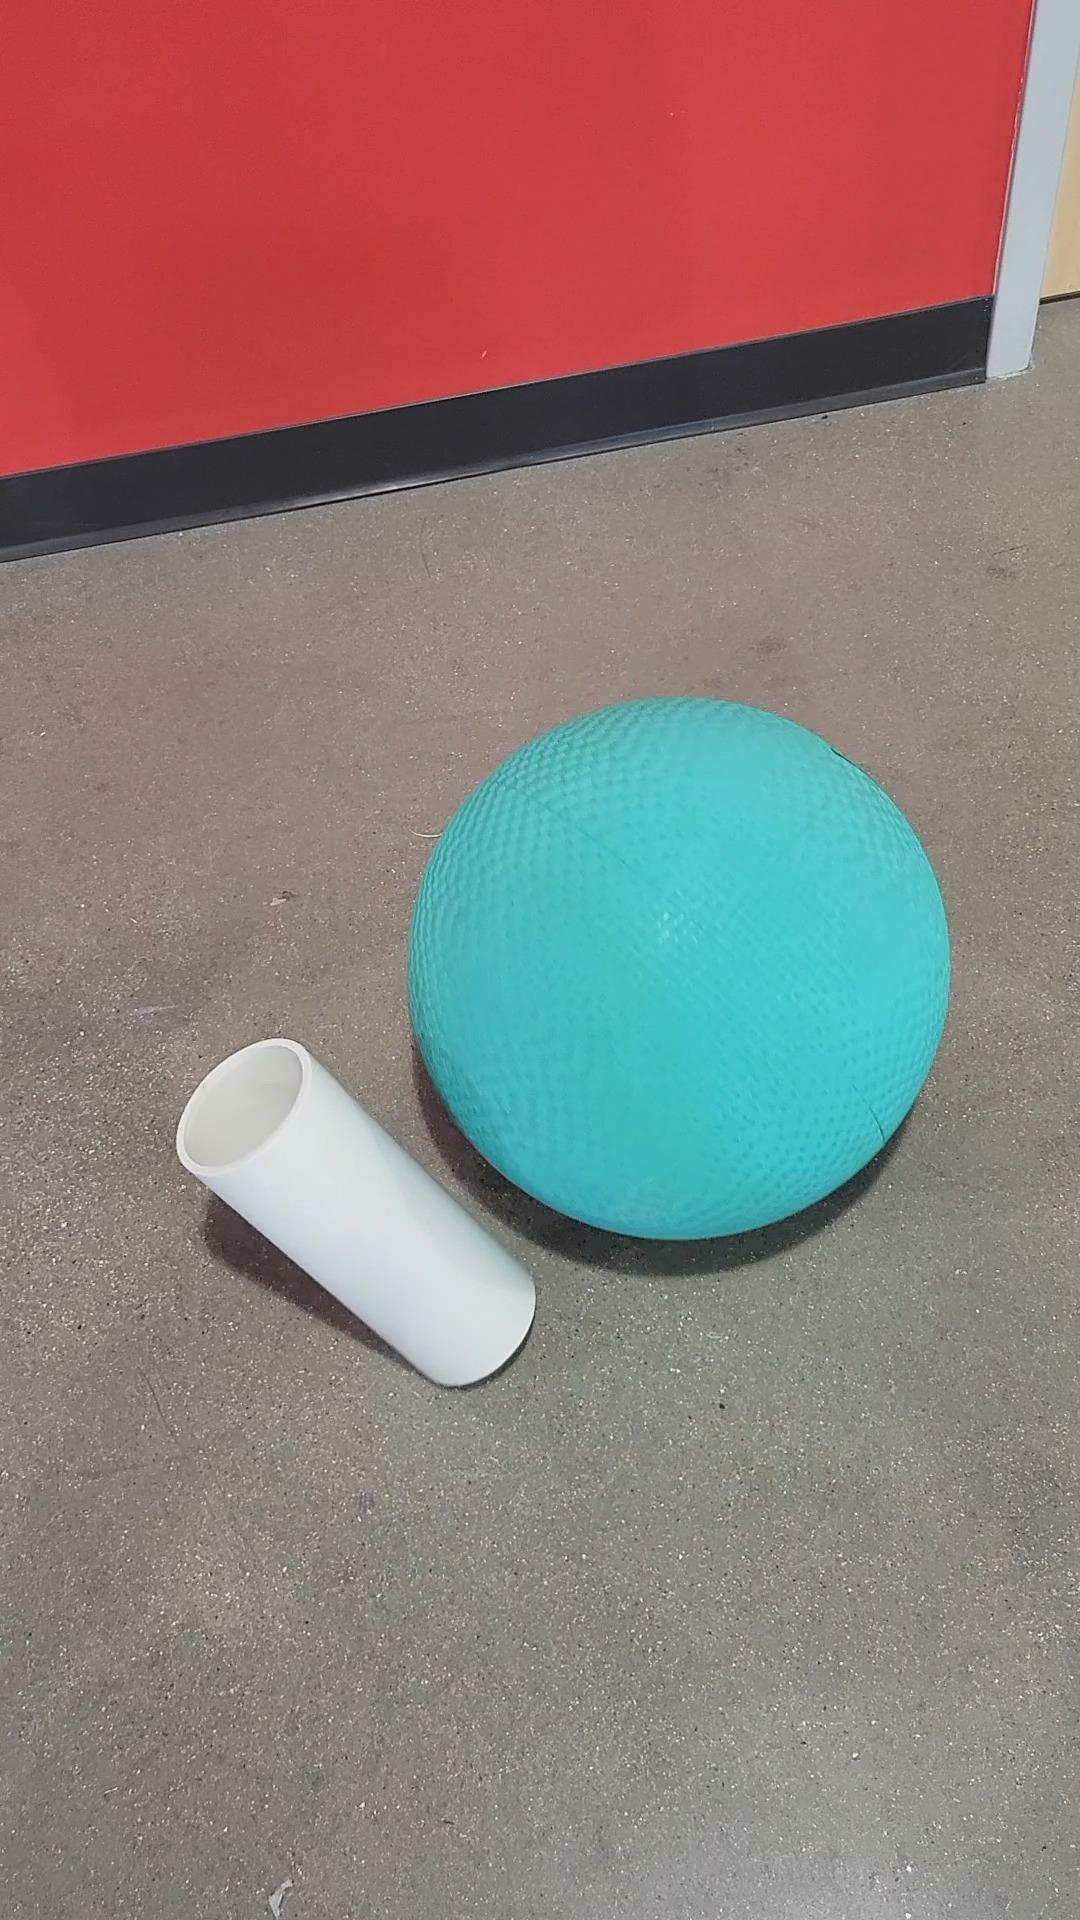algae: (411, 696, 963, 1257)
coral: (161, 1026, 542, 1396)
